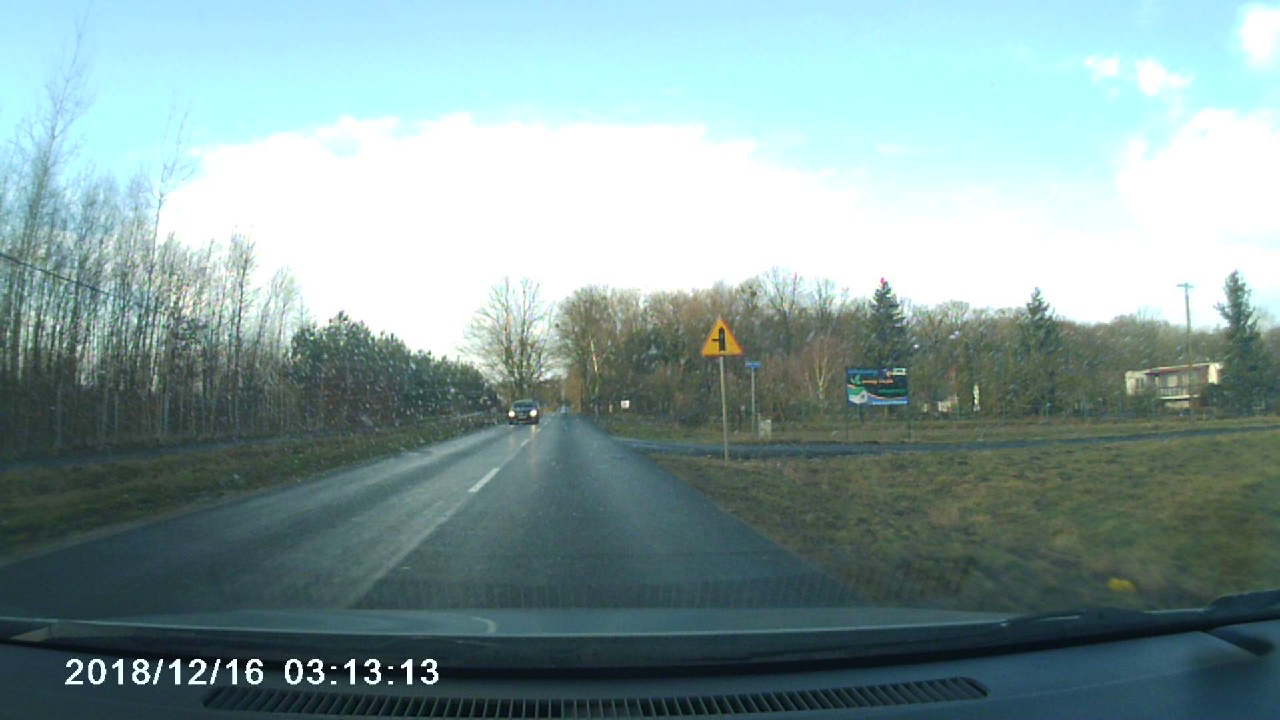A6c: (702, 316, 743, 356)
